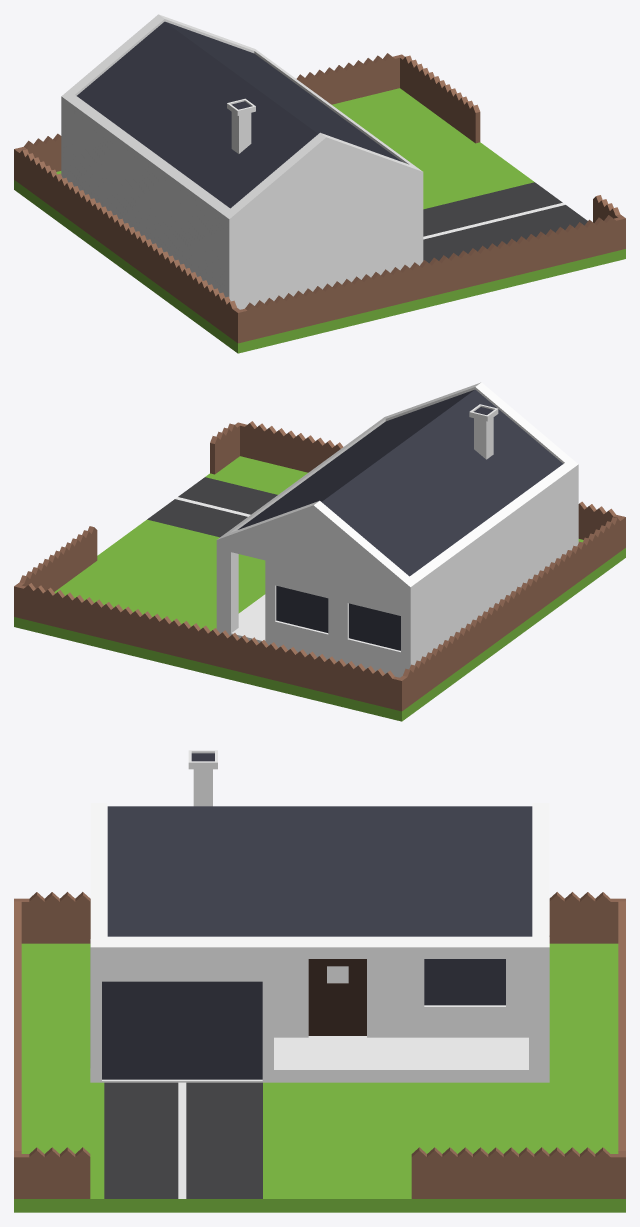
The model's file is house2_w_fence.fbx.
3 renders of one model, top to bottom at view 1: azimuth 30°, elevation 25°; view 2: azimuth 150°, elevation 25°; view 3: azimuth 270°, elevation 25°, orthographic. The views are drawn at different scales.
Visible parts, largest first — view 1: house2_w_fence; view 2: house2_w_fence; view 3: house2_w_fence.
Boxes of the visible parts, <box> form: house2_w_fence: <box>14,14,625,353</box>; house2_w_fence: <box>14,382,625,721</box>; house2_w_fence: <box>14,750,625,1212</box>.
Bounding box in the file's own units: 1000 × 454 × 1000.
